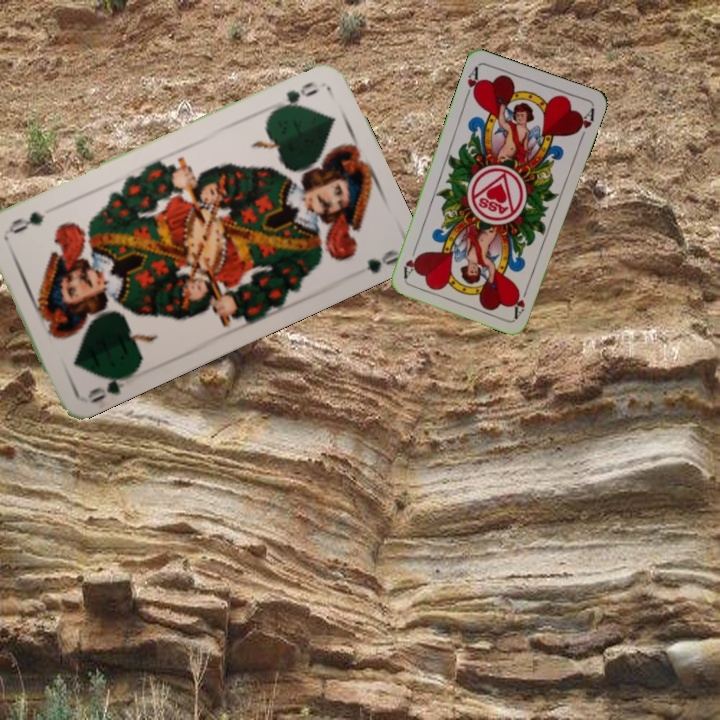GO: (83, 368, 137, 406), (269, 77, 321, 114)
HA: (461, 63, 483, 102), (510, 281, 532, 320)
